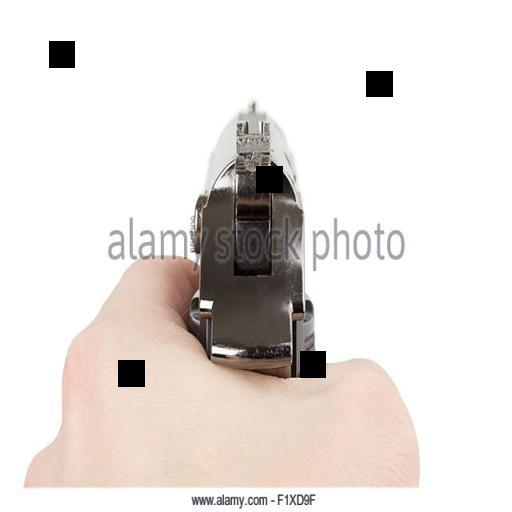Handgun: (181, 89, 327, 379)
